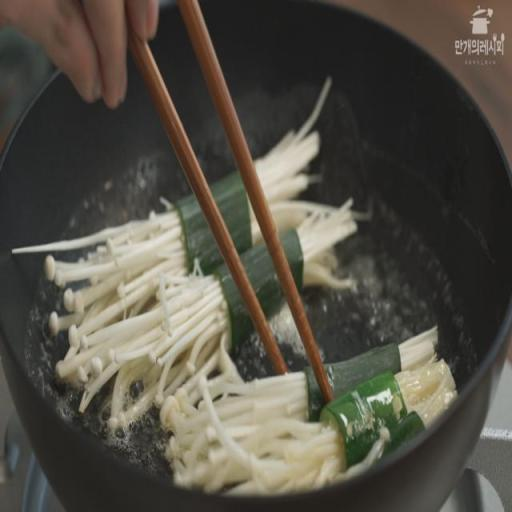Enoki Mushroom: (11, 189, 254, 444), (159, 369, 347, 498)
